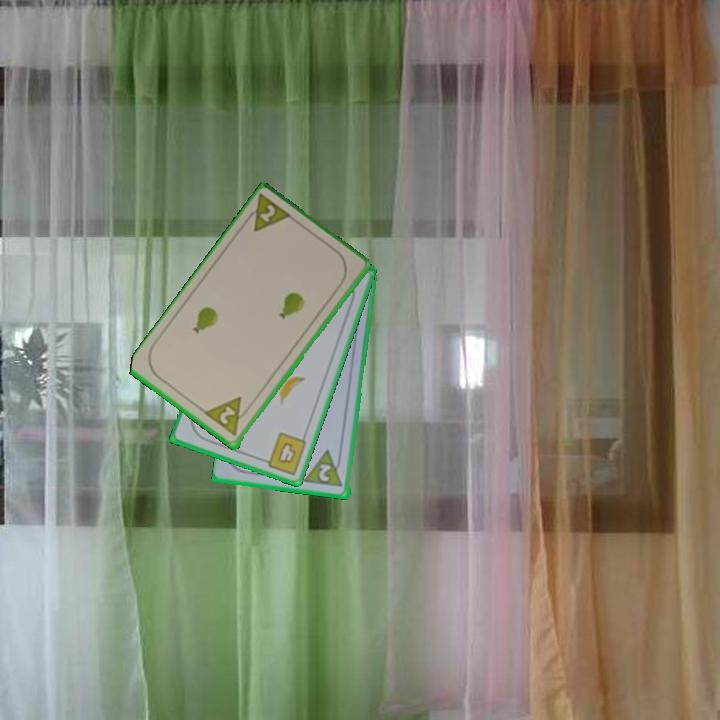2p: (240, 191, 296, 236), (216, 403, 238, 428), (315, 460, 335, 485)
4b: (258, 429, 310, 478)
